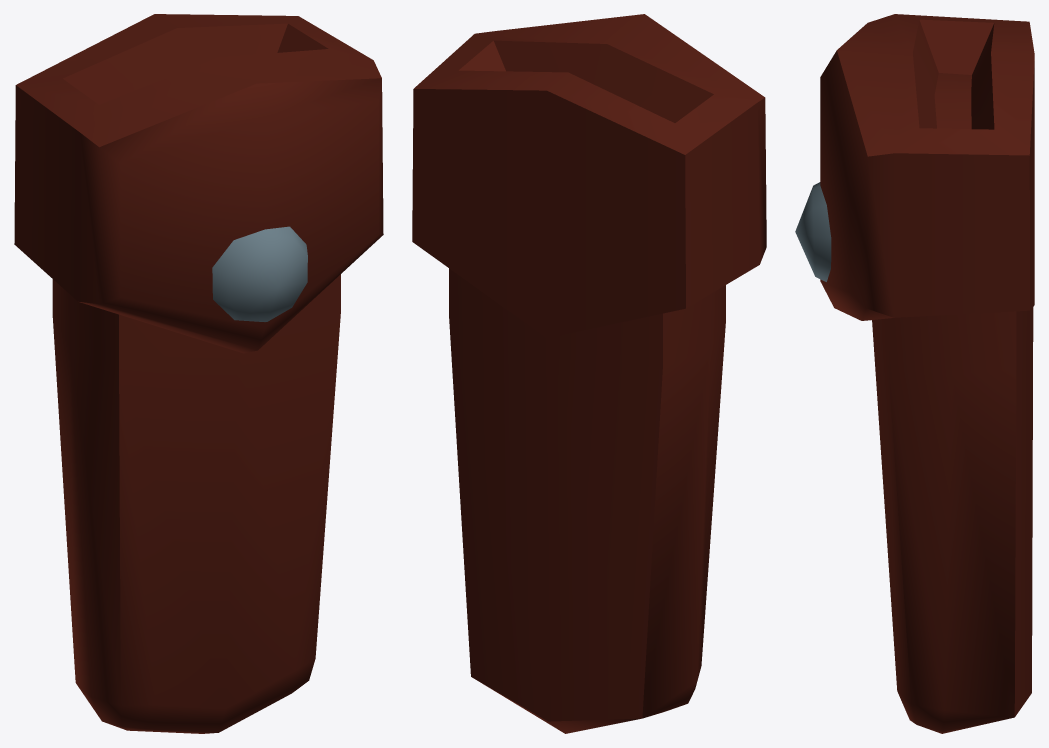
The model's file is quiver_empty.obj.
3 views of the same model, side by side, from view 1: azimuth 30°, elevation 25°; view 2: azimuth 150°, elevation 25°; view 3: azimuth 270°, elevation 25° (orthographic). The views are drawn at different scales.
Visible parts, largest first — view 1: quiver_empty_Cube.3068; view 2: quiver_empty_Cube.3068; view 3: quiver_empty_Cube.3068.
Part boxes in pixels (x1,y1,x2,y2): quiver_empty_Cube.3068: (14,14,383,733); quiver_empty_Cube.3068: (412,14,766,733); quiver_empty_Cube.3068: (795,14,1034,733).
Bounding box in the file's own units: 0.2481 × 0.5483 × 0.178.
